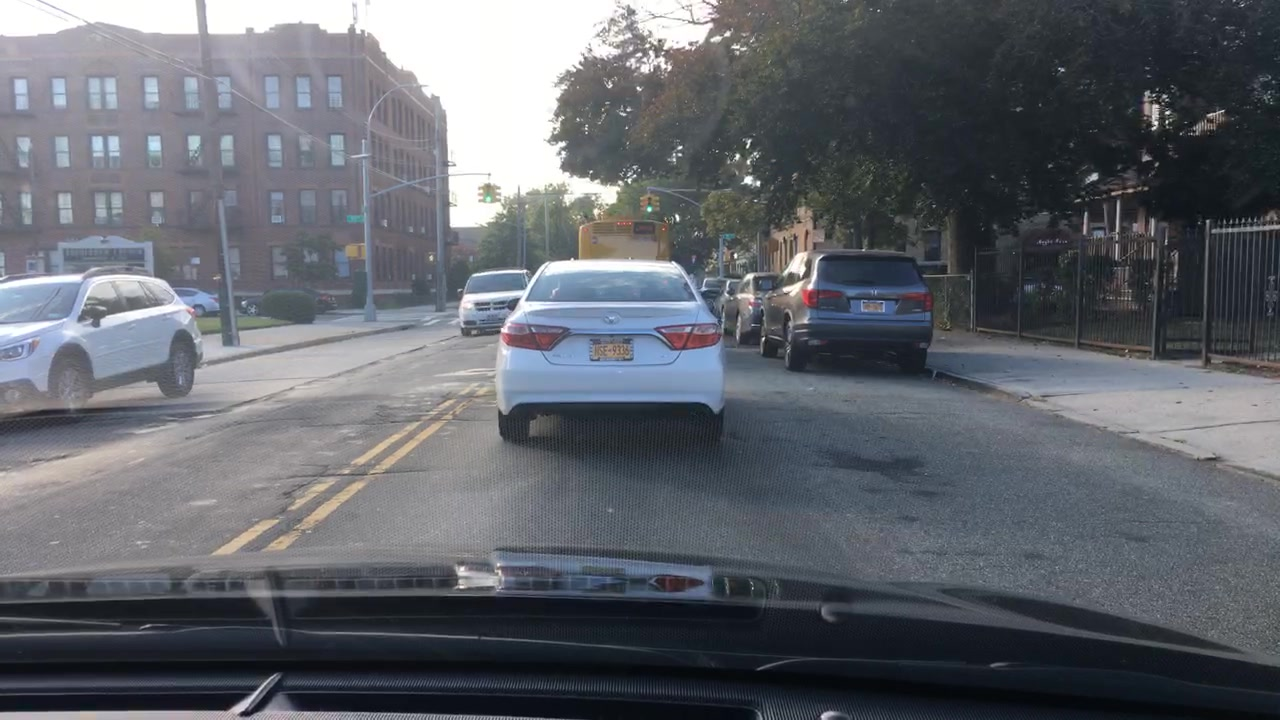licence: (587, 337, 638, 365)
